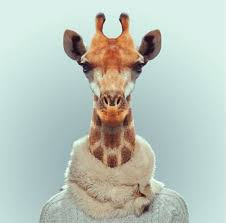Jirafa: (51, 5, 170, 145)
